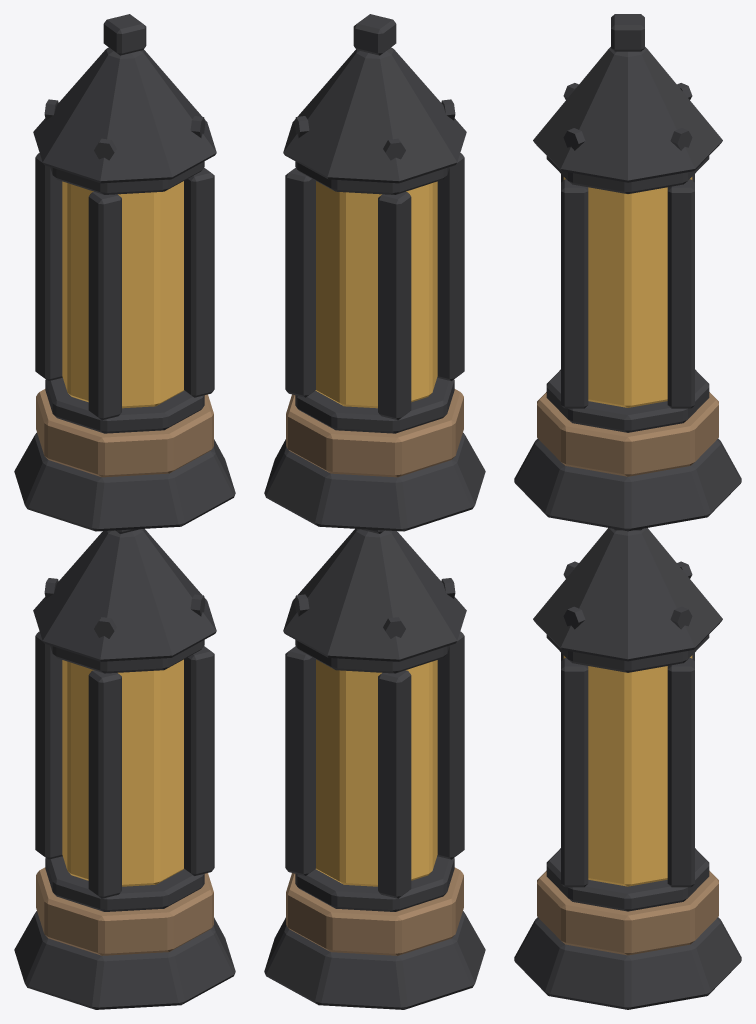
The model's file is corebound_lantern.glb.
The picture shows the model from 3 angles, left to right: view 1: azimuth 30°, elevation 25°; view 2: azimuth 150°, elevation 25°; view 3: azimuth 270°, elevation 25°; orthographic projection.
Parts seen in each view (by area): view 1: AshHollowLantern_Standing, AshHollowLantern_Hanging; view 2: AshHollowLantern_Standing, AshHollowLantern_Hanging; view 3: AshHollowLantern_Standing, AshHollowLantern_Hanging.
Boxes of the visible parts, x1,y1,x2,y2 form: AshHollowLantern_Standing: (14, 14, 235, 531); AshHollowLantern_Hanging: (14, 528, 235, 1009); AshHollowLantern_Standing: (264, 14, 485, 531); AshHollowLantern_Hanging: (264, 528, 485, 1009); AshHollowLantern_Standing: (514, 14, 741, 531); AshHollowLantern_Hanging: (514, 528, 741, 1009).
Size of the model in its own units: 0.4665 by 2.13 by 0.4665.
